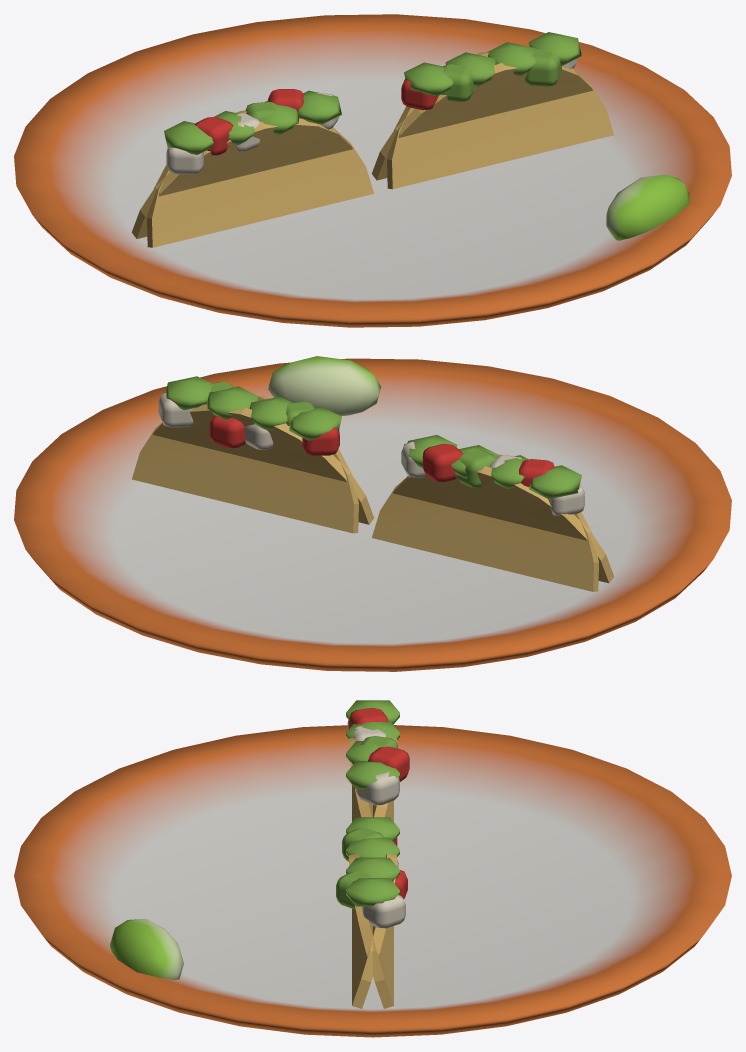
File: item_dish_fish_tacos.glb
The picture shows the model from 3 angles, top to bottom: view 1: azimuth 30°, elevation 25°; view 2: azimuth 150°, elevation 25°; view 3: azimuth 270°, elevation 25°; orthographic projection.
Parts seen in each view (by area): view 1: item_dish_fish_tacos_main; view 2: item_dish_fish_tacos_main; view 3: item_dish_fish_tacos_main.
Boxes of the visible parts, x1,y1,x2,y2 form: item_dish_fish_tacos_main: [14, 14, 731, 327]; item_dish_fish_tacos_main: [14, 356, 731, 671]; item_dish_fish_tacos_main: [14, 700, 731, 1037].
Bounding box in the file's own units: 0.27 × 0.0558 × 0.27.
